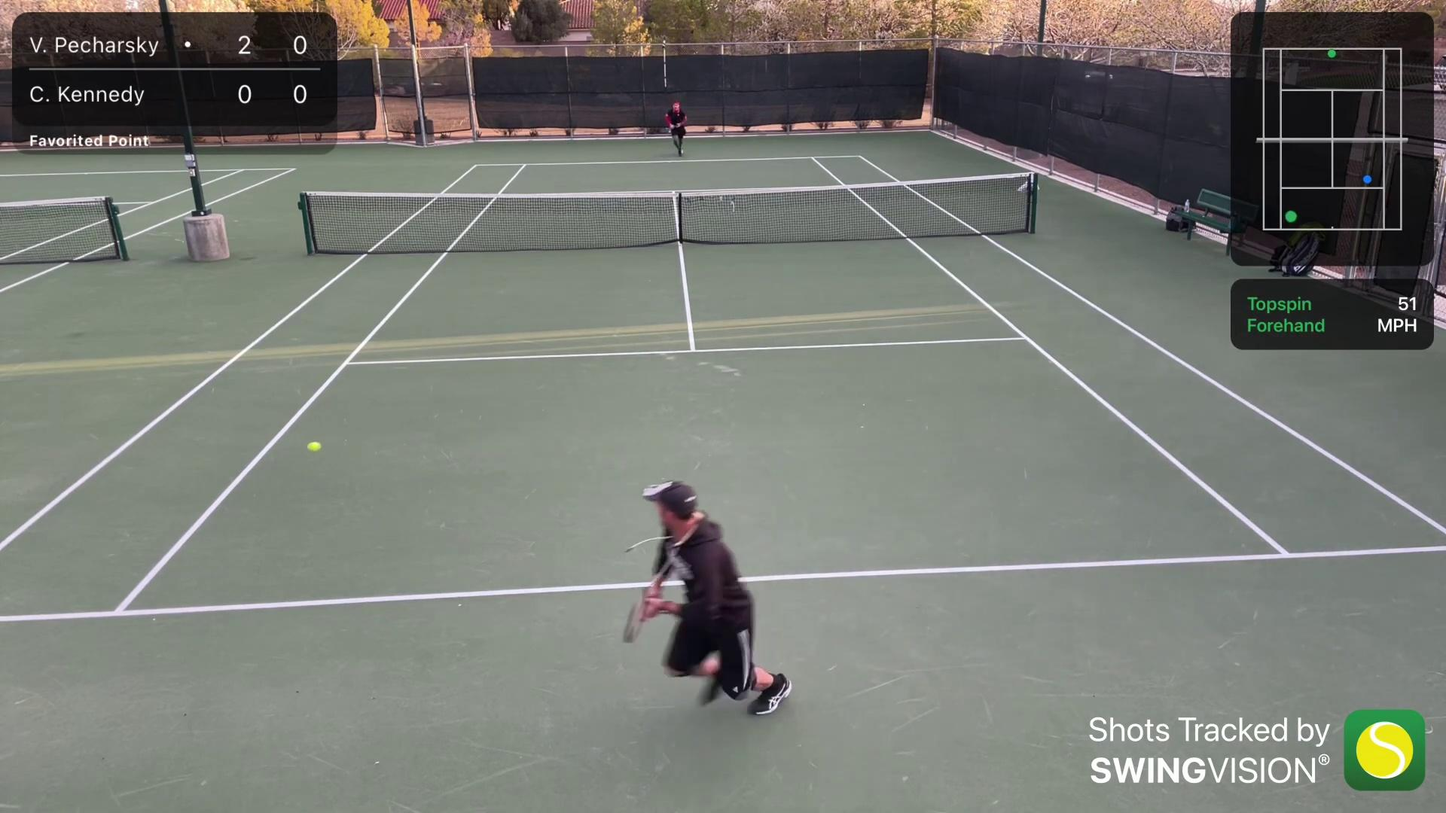ball: (304, 441, 324, 453)
